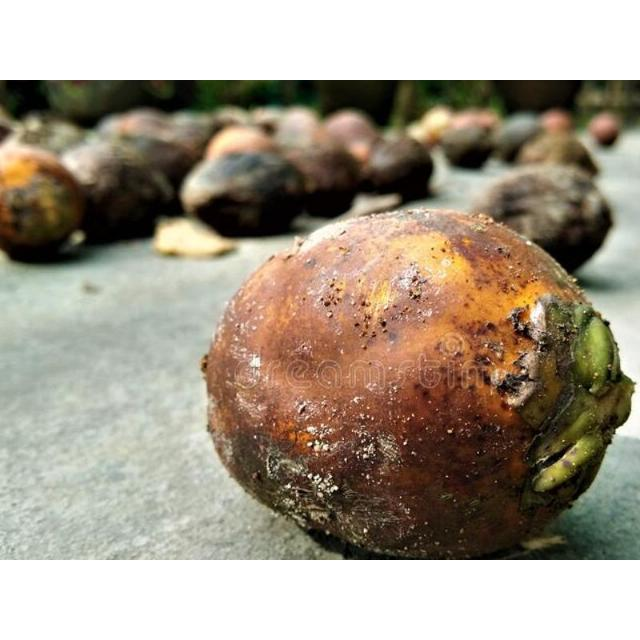damaged: (201, 210, 634, 559)
